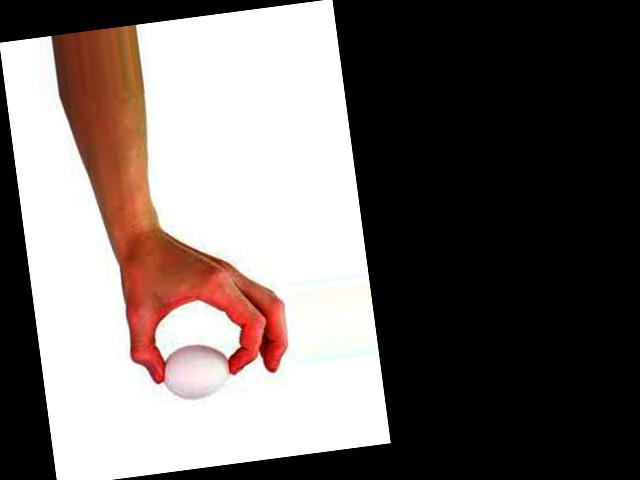egg: (159, 340, 233, 403)
